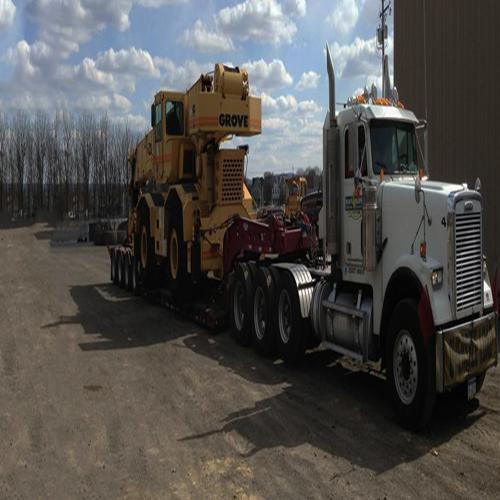con_eq: (108, 61, 311, 317)
